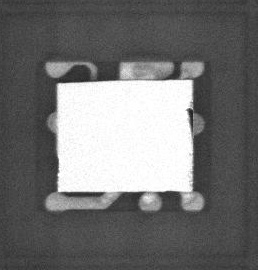DIE_BROKEN: (185, 105, 194, 137)
